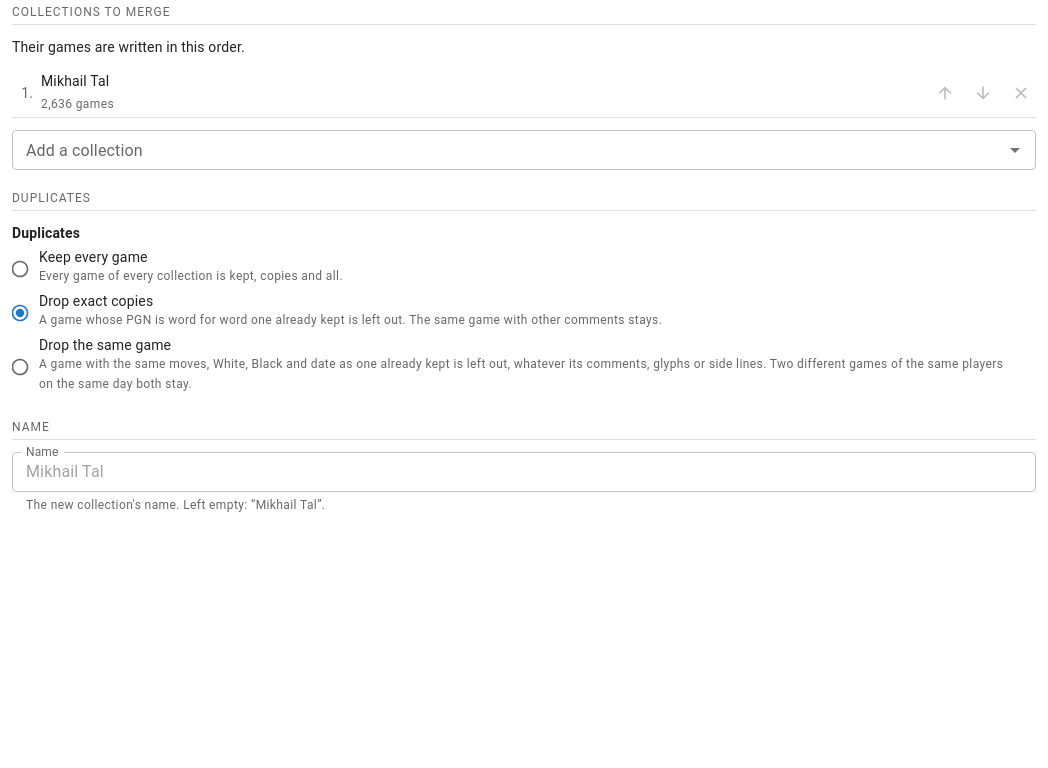
it: CollectionMergeForm (CTA-220, CTA-232) › adds a collection from the Library's others, typed to find, at the end — those picked not offered
Expected: the button named "Remove Mikhail Tal" is disabled, x1=1006 y1=78 x2=1036 y2=108
Click the dropdown labelled "Add a collection". click: x=508, y=150
box: x1=18 y1=136 x2=997 y2=164
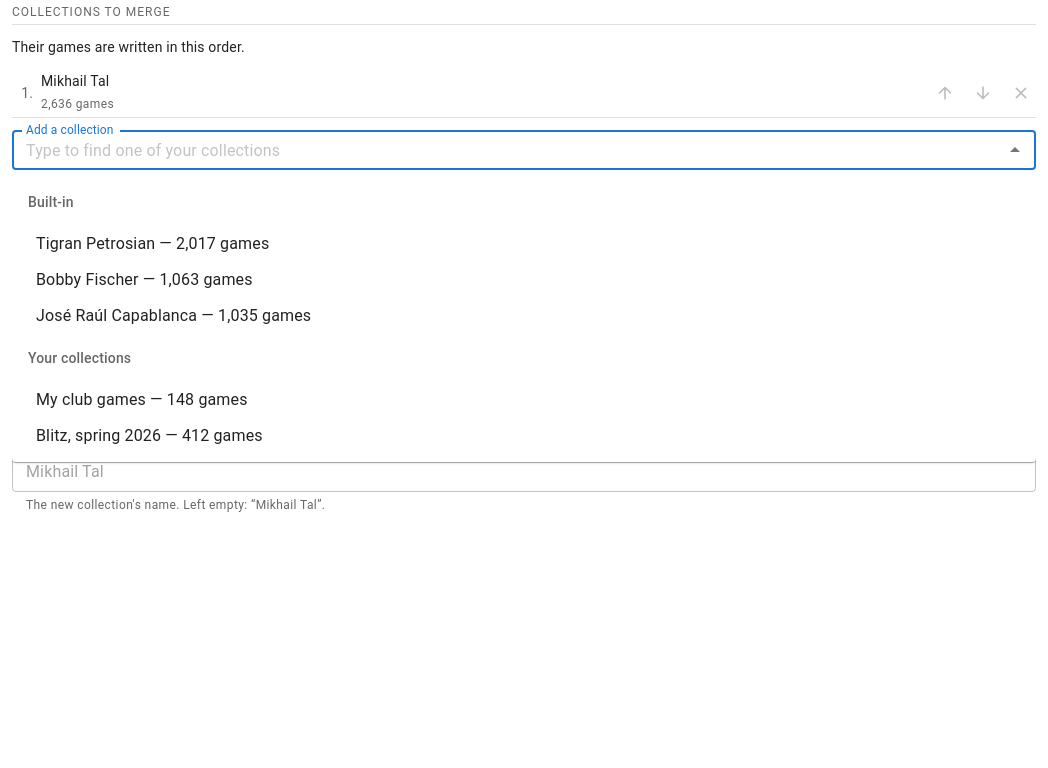
Now the option "My club games — 148 games" is shown, box x1=36 y1=390 x2=248 y2=409
Now the text "Built-in" is shown, box x1=12 y1=178 x2=1036 y2=226
Now the text "Your collections" is shown, box x1=12 y1=334 x2=1036 y2=382
Type "club" into the dropdown labelled "Add a collection". click: x=508, y=150
box: x1=18 y1=136 x2=997 y2=164
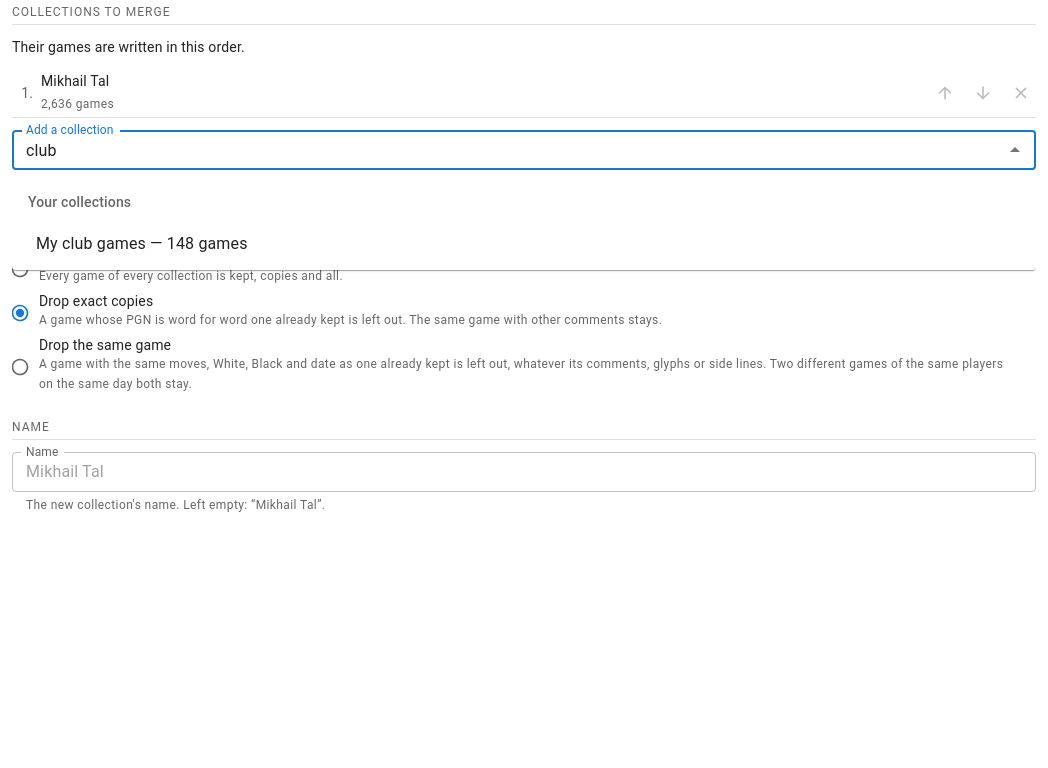
Click the option "My club games — 148 games". click: x=142, y=244
box: x1=36 y1=234 x2=248 y2=253
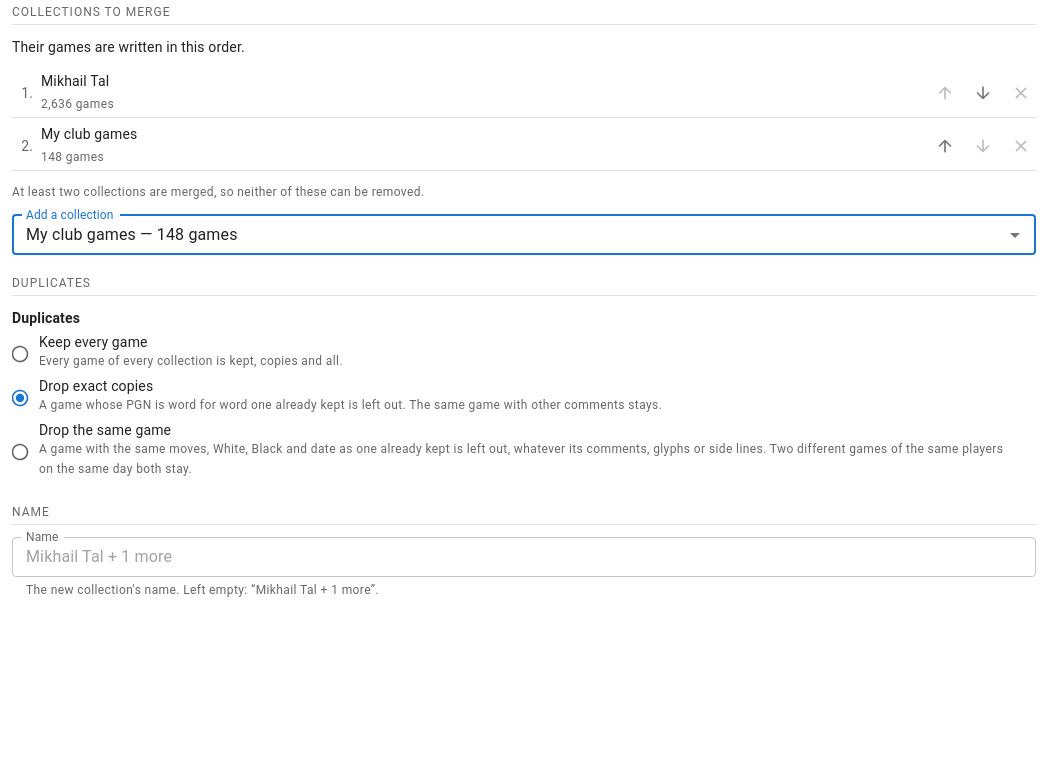
Expected: the number of list items is 2, x1=12 y1=69 x2=1036 y2=118; x1=12 y1=122 x2=1036 y2=171
Now the text with test id "form-minimum" is shown, box x1=12 y1=185 x2=424 y2=199
